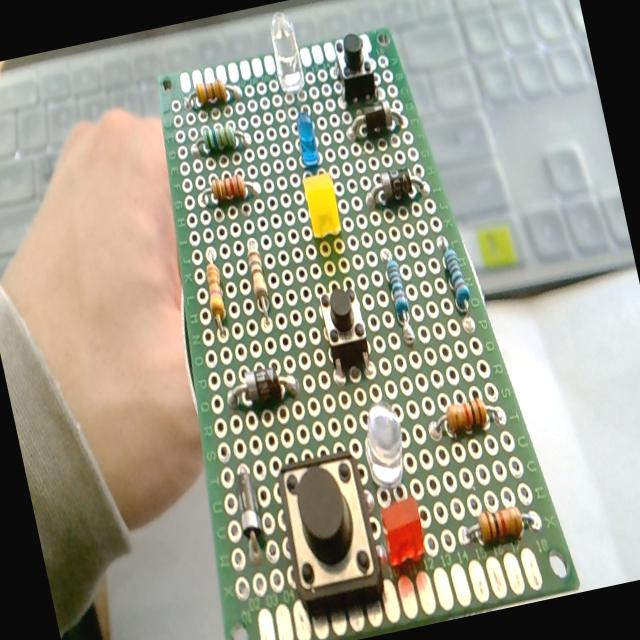diode: (222, 446, 276, 566), (352, 152, 438, 220), (222, 365, 306, 412), (342, 99, 411, 152)
led: (370, 484, 438, 582), (260, 10, 318, 114), (356, 396, 417, 490), (280, 114, 330, 178), (300, 170, 343, 240)
resistor: (428, 222, 476, 324), (424, 391, 510, 445), (457, 502, 539, 552), (378, 244, 417, 341), (176, 68, 247, 115), (242, 236, 276, 330), (198, 252, 232, 336), (199, 174, 263, 216), (190, 122, 250, 160), (209, 170, 248, 203)
switch: (269, 448, 388, 618), (298, 276, 382, 374), (328, 29, 380, 106)
